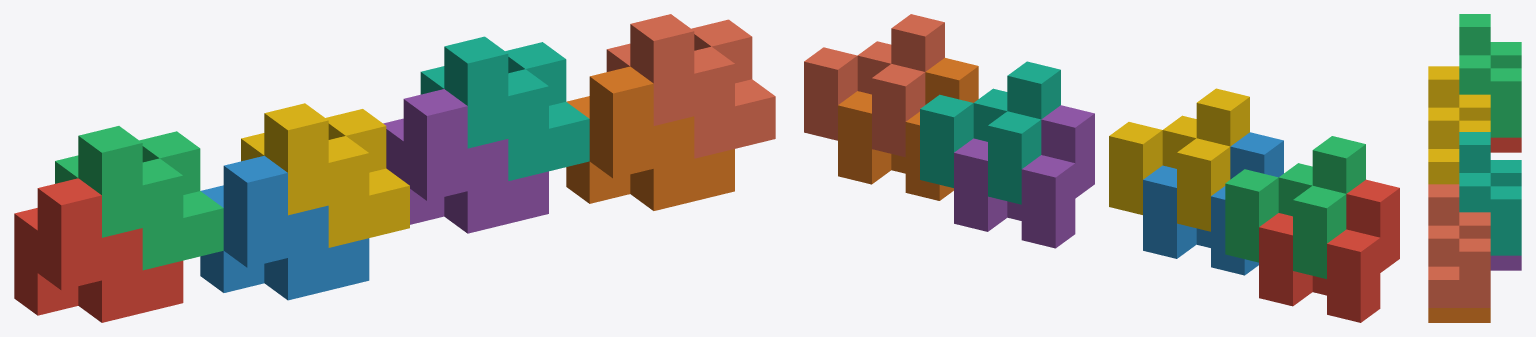
Rendered from tiling.obj.
3 renders of one model, left to right at view 1: azimuth 30°, elevation 25°; view 2: azimuth 150°, elevation 25°; view 3: azimuth 270°, elevation 25°, orthographic. The views are drawn at different scales.
Visible parts, largest first — view 1: copy_1_domain_1, copy_1_domain_8, copy_1_domain_7, copy_1_domain_4, copy_1_domain_3, copy_1_domain_2, copy_1_domain_6, copy_1_domain_5; view 2: copy_1_domain_5, copy_1_domain_1, copy_1_domain_3, copy_1_domain_7, copy_1_domain_8, copy_1_domain_4, copy_1_domain_2, copy_1_domain_6; view 3: copy_1_domain_8, copy_1_domain_3, copy_1_domain_7, copy_1_domain_4, copy_1_domain_6, copy_1_domain_1, copy_1_domain_5.
Boxes of the visible parts, x1,y1,x2,y2 form: copy_1_domain_1: (14,178,183,322); copy_1_domain_8: (606,14,775,158); copy_1_domain_7: (420,36,589,180); copy_1_domain_4: (241,103,409,247); copy_1_domain_3: (55,126,223,270); copy_1_domain_2: (200,155,369,300); copy_1_domain_6: (566,66,734,210); copy_1_domain_5: (383,89,548,233); copy_1_domain_5: (954,105,1094,248); copy_1_domain_1: (1259,179,1399,322); copy_1_domain_3: (1225,136,1365,278); copy_1_domain_7: (920,61,1060,204); copy_1_domain_8: (804,14,944,157); copy_1_domain_4: (1109,88,1249,231); copy_1_domain_2: (1143,132,1283,275); copy_1_domain_6: (838,58,978,200); copy_1_domain_8: (1428,184,1490,307); copy_1_domain_3: (1459,14,1521,137); copy_1_domain_7: (1459,132,1521,255); copy_1_domain_4: (1428,66,1490,184); copy_1_domain_6: (1428,308,1490,322); copy_1_domain_1: (1490,137,1521,152); copy_1_domain_5: (1490,255,1521,270).
Size of the model in its own units: 17 by 4 by 3.
